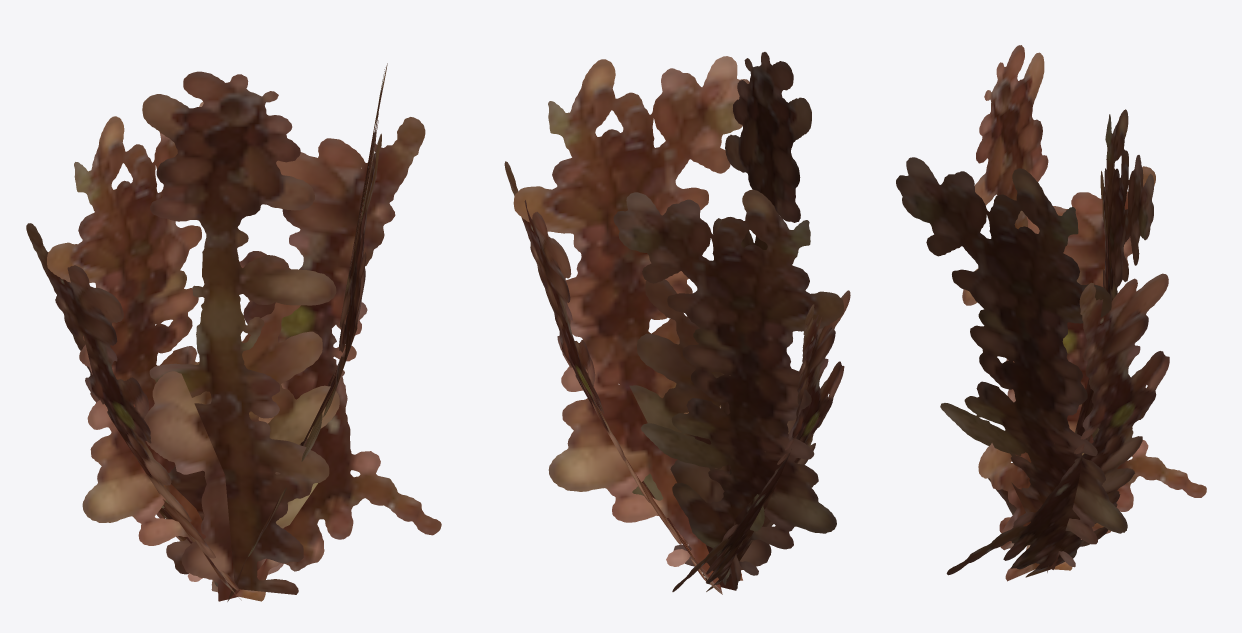
Rendered from seaweed_3_2.FBX.
The picture shows the model from 3 angles, left to right: view 1: azimuth 30°, elevation 25°; view 2: azimuth 150°, elevation 25°; view 3: azimuth 270°, elevation 25°; orthographic projection. The views are drawn at different scales.
Parts seen in each view (by area): view 1: seaweed_3_02; view 2: seaweed_3_02; view 3: seaweed_3_02.
Part boxes in pixels (x1=…): seaweed_3_02: x1=26, y1=63, x2=441, y2=601; seaweed_3_02: x1=504, y1=52, x2=850, y2=594; seaweed_3_02: x1=896, y1=45, x2=1206, y2=581.
Size of the model in its own units: 13.09 by 17.95 by 10.88.
Materials: 1 (1 with a texture image).
